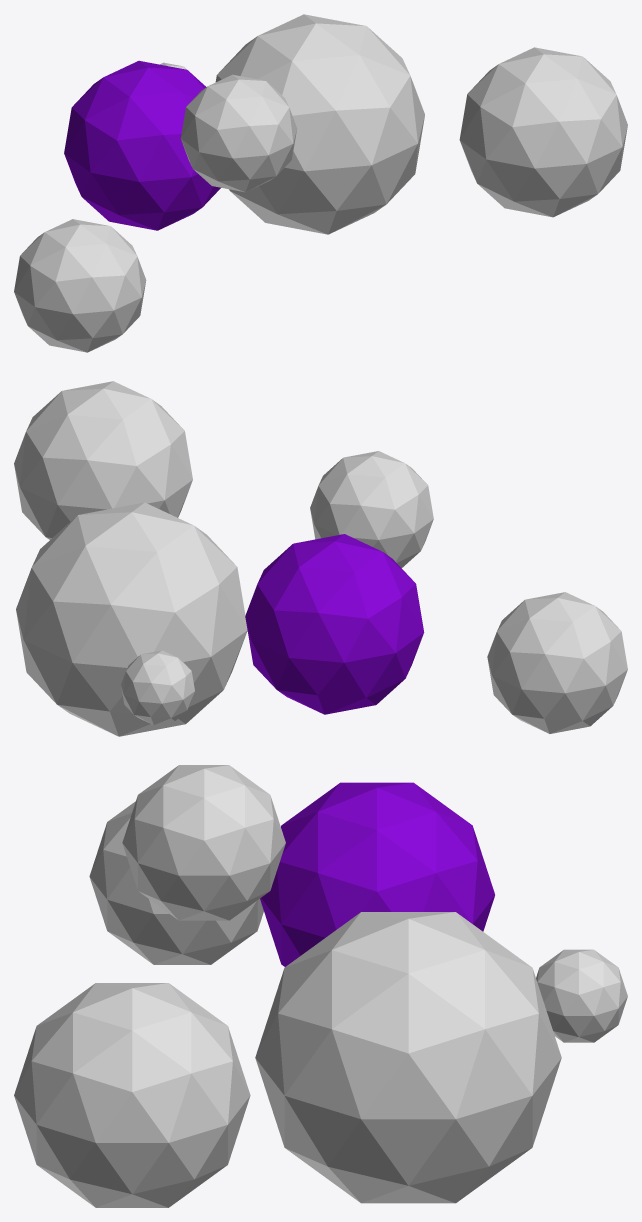
File: bubbles.glb
3 renders of one model, top to bottom at view 1: azimuth 30°, elevation 25°; view 2: azimuth 150°, elevation 25°; view 3: azimuth 270°, elevation 25°, orthographic. The views are drawn at different scales.
Parts seen in each view (by area): view 1: Icosphere.004, Icosphere.005, Icosphere.002, Icosphere.001, Icosphere.003; view 2: Icosphere.004, Icosphere.002, Icosphere.005, Icosphere.001, Icosphere.003, Icosphere.006; view 3: Icosphere.004, Icosphere.005, Icosphere.002, Icosphere.003, Icosphere.001, Icosphere.006.
Boxes of the visible parts, x1=… form: Icosphere.004: x1=215, y1=14, x2=424, y2=234; Icosphere.005: x1=459, y1=47, x2=627, y2=217; Icosphere.002: x1=64, y1=60, x2=220, y2=230; Icosphere.001: x1=14, y1=219, x2=146, y2=352; Icosphere.003: x1=180, y1=74, x2=296, y2=192; Icosphere.004: x1=16, y1=502, x2=247, y2=736; Icosphere.002: x1=245, y1=534, x2=424, y2=714; Icosphere.005: x1=14, y1=381, x2=192, y2=539; Icosphere.001: x1=487, y1=592, x2=627, y2=733; Icosphere.003: x1=310, y1=451, x2=433, y2=568; Icosphere.006: x1=121, y1=650, x2=194, y2=724; Icosphere.004: x1=255, y1=912, x2=561, y2=1203; Icosphere.005: x1=14, y1=983, x2=250, y2=1207; Icosphere.002: x1=260, y1=782, x2=494, y2=966; Icosphere.003: x1=122, y1=765, x2=285, y2=920; Icosphere.001: x1=89, y1=801, x2=263, y2=964; Icosphere.006: x1=536, y1=949, x2=627, y2=1042.
Bounding box in the file's own units: 7.67 × 3.04 × 5.19.
